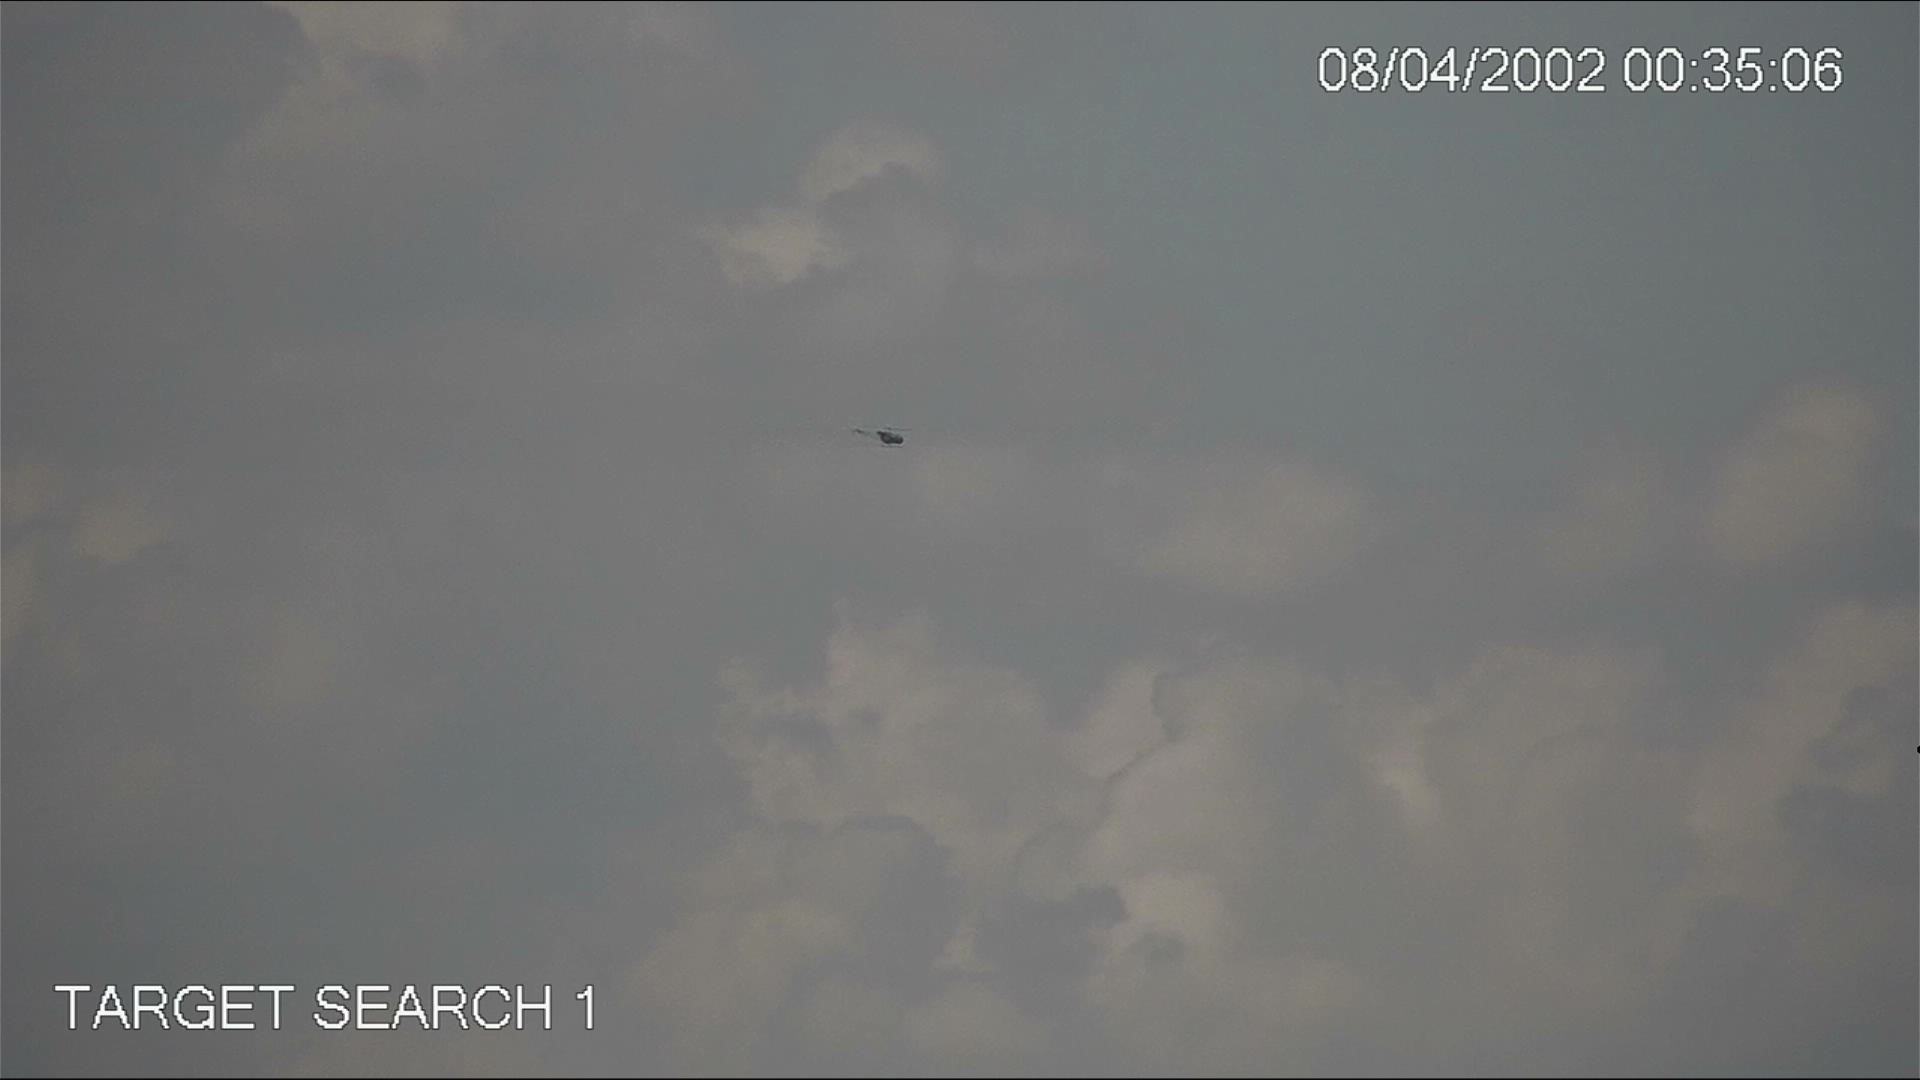SU_30: (847, 419, 915, 454)
